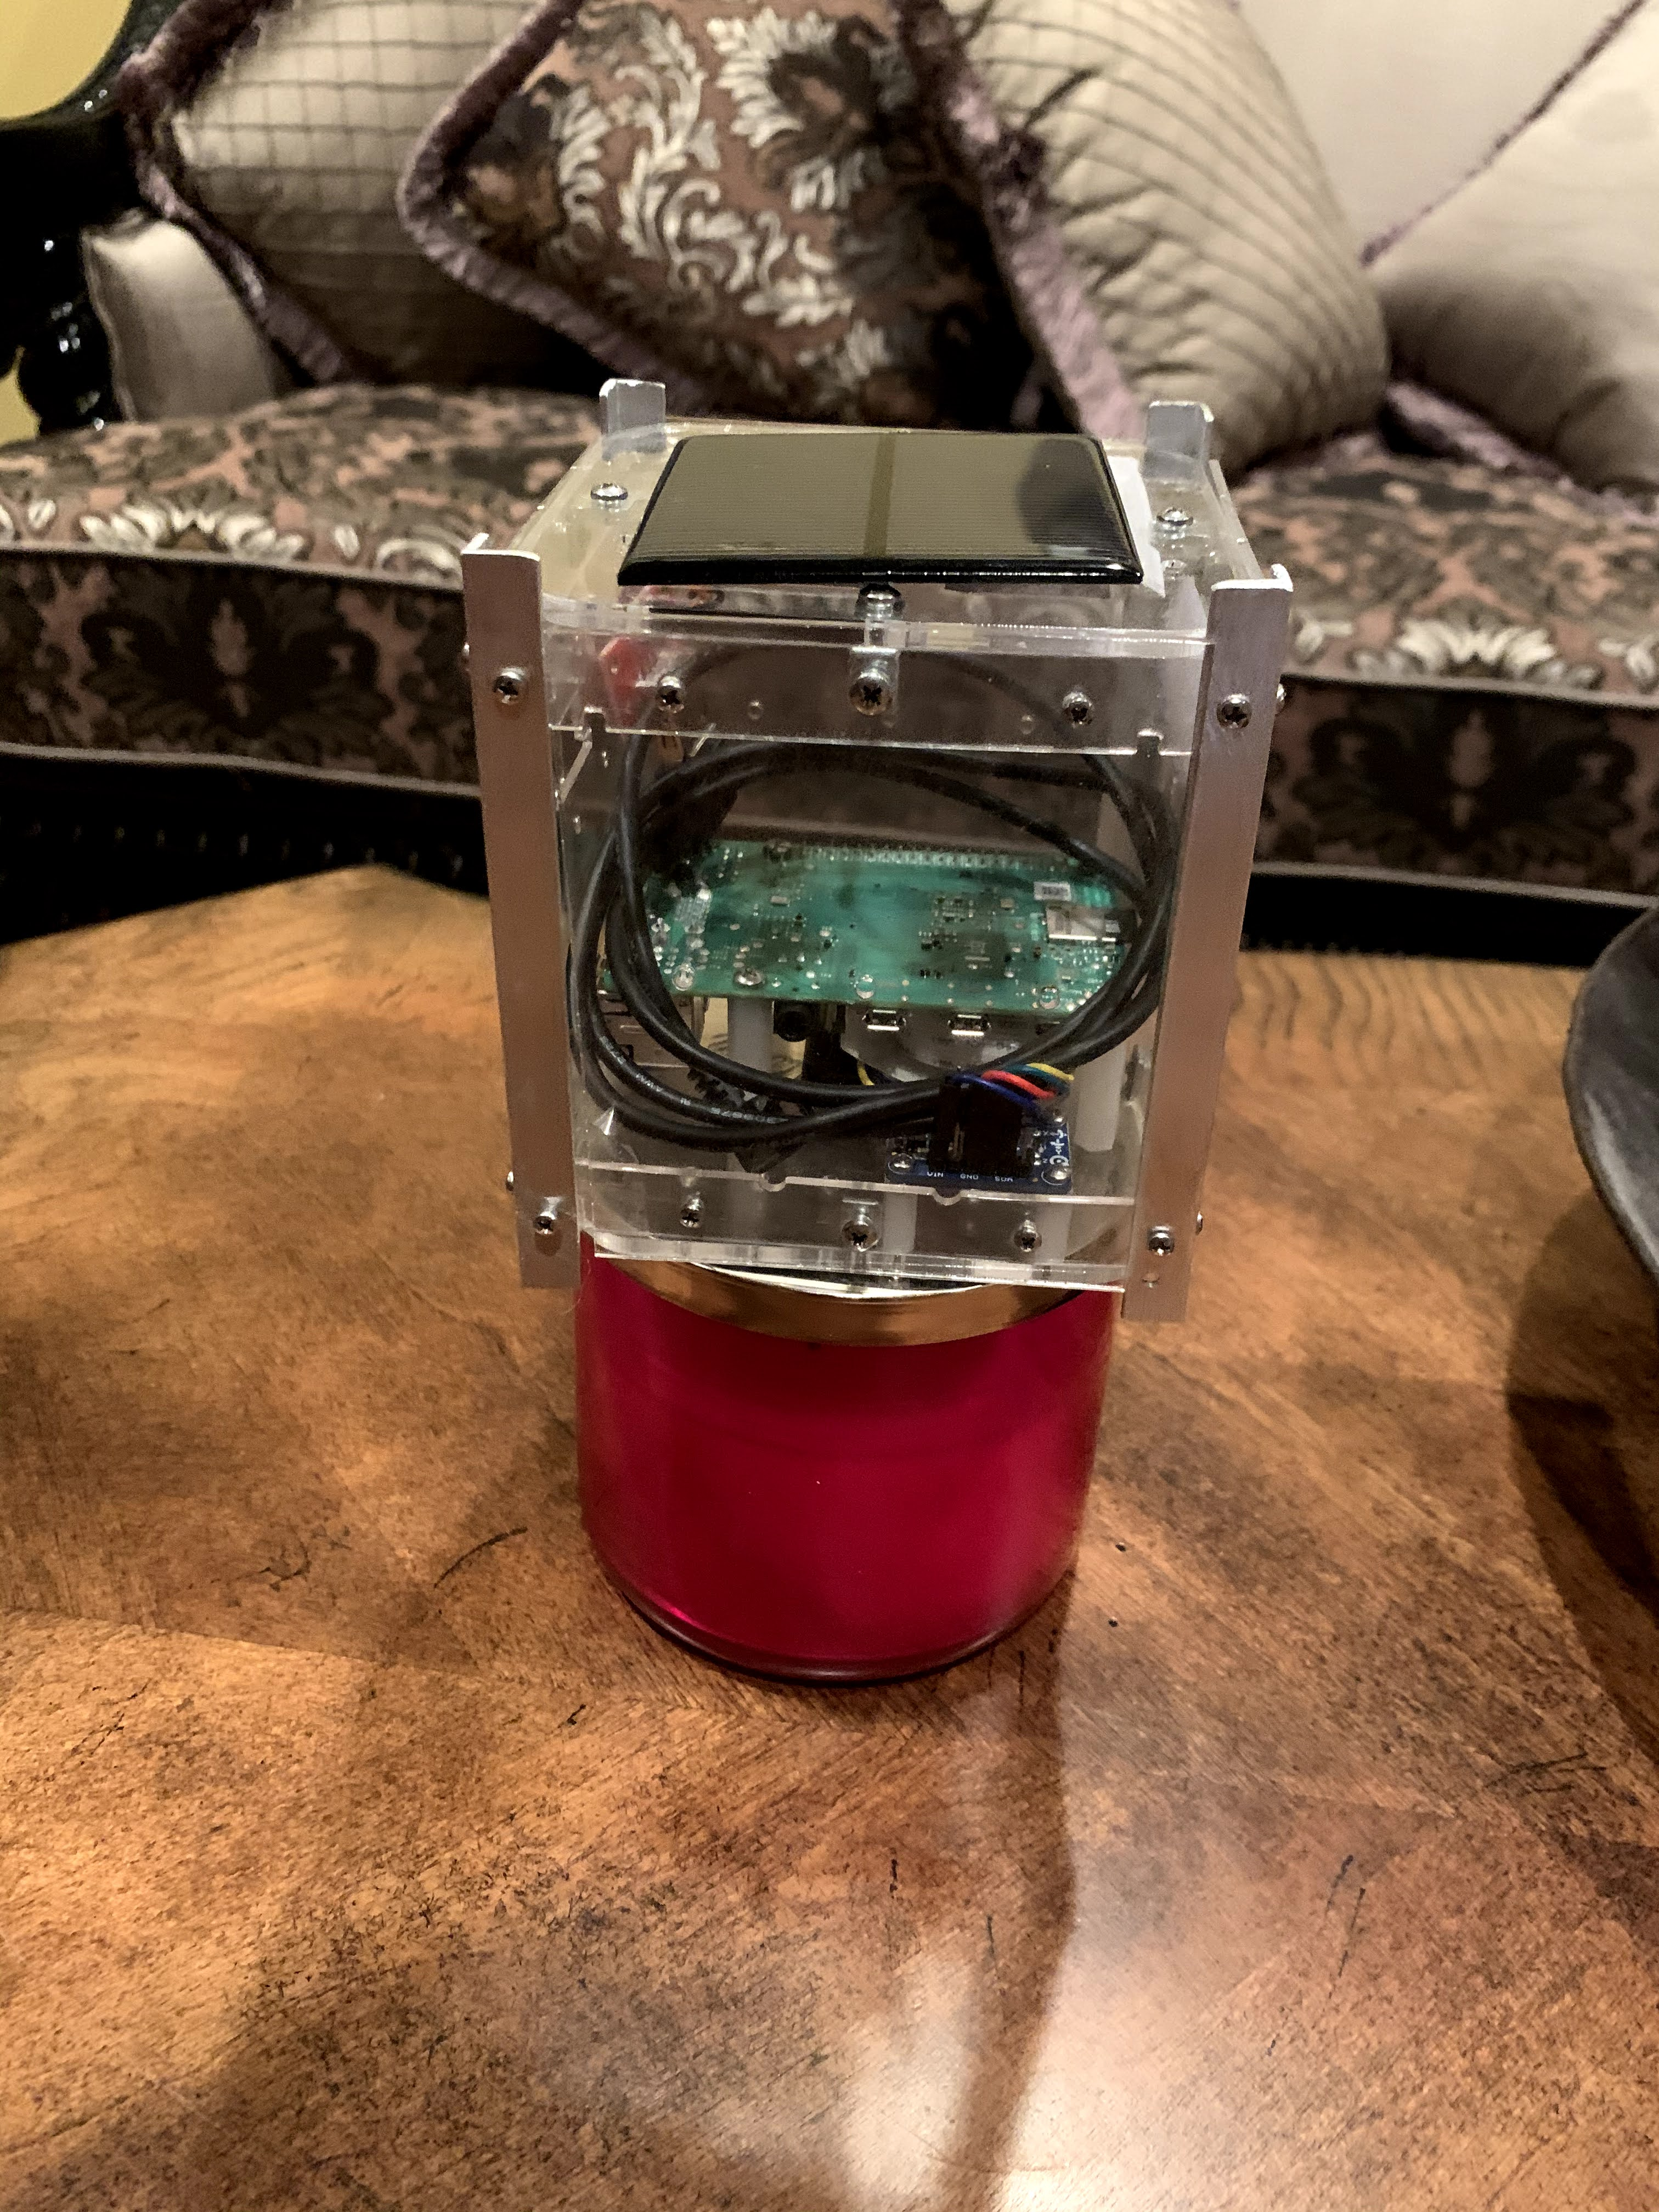Space-debris-cubesat: (458, 345, 1310, 1315)
